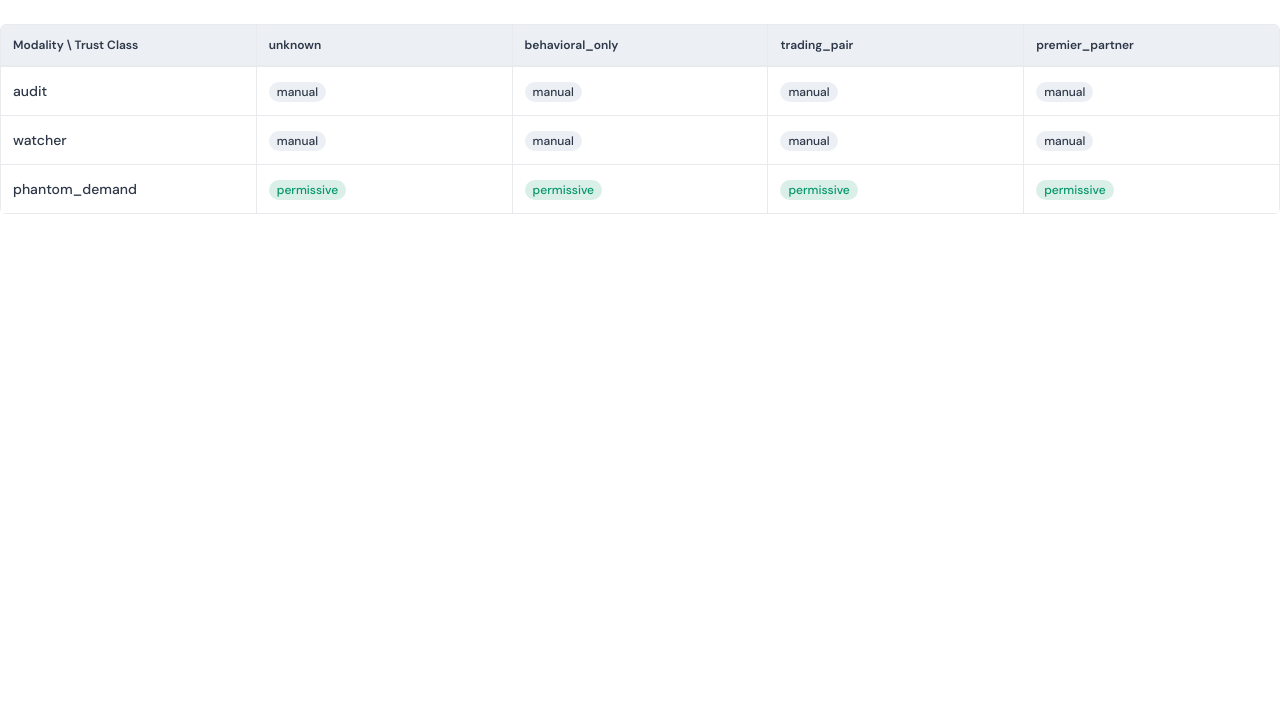
Test: PostureGrid › shows signal-type override checkboxes only for watcher posture=permissive
This screenshot has width=1280, height=720.
Click the button with aria-label "watcher posture for trading_pair" at (896, 140), box [768,116,1023,164]
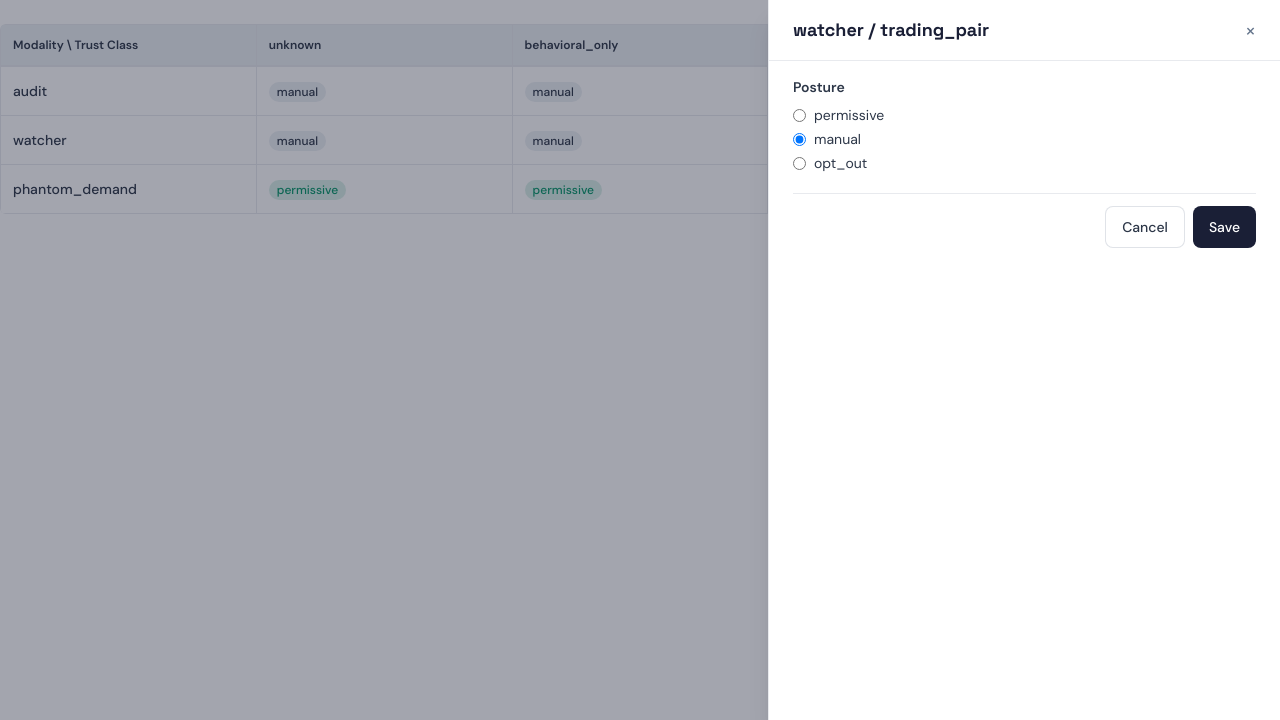
Click the radio button labelled "permissive" at (800, 115), box [793,108,806,122]
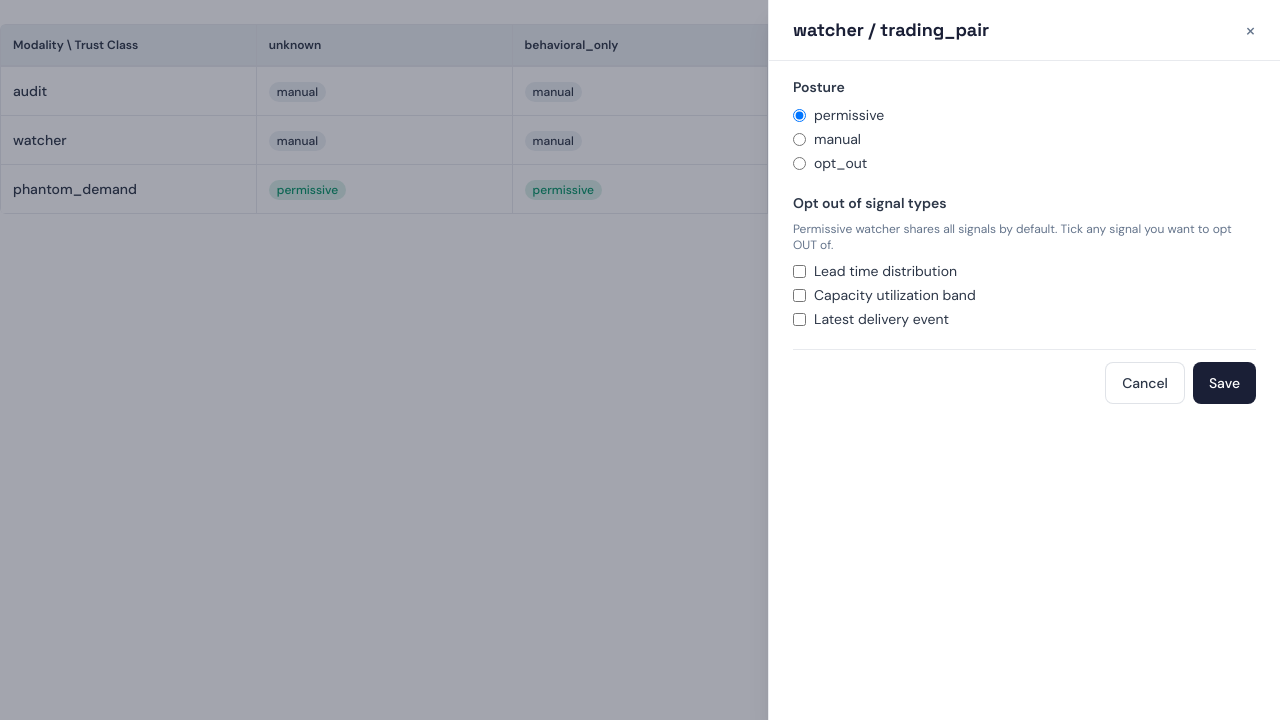
Result: the checkbox labelled "Lead time distribution" is shown at [793,264,806,278]
Result: the checkbox labelled "Capacity utilization band" is shown at [793,288,806,302]
Result: the checkbox labelled "Latest delivery event" is shown at [793,312,806,326]
